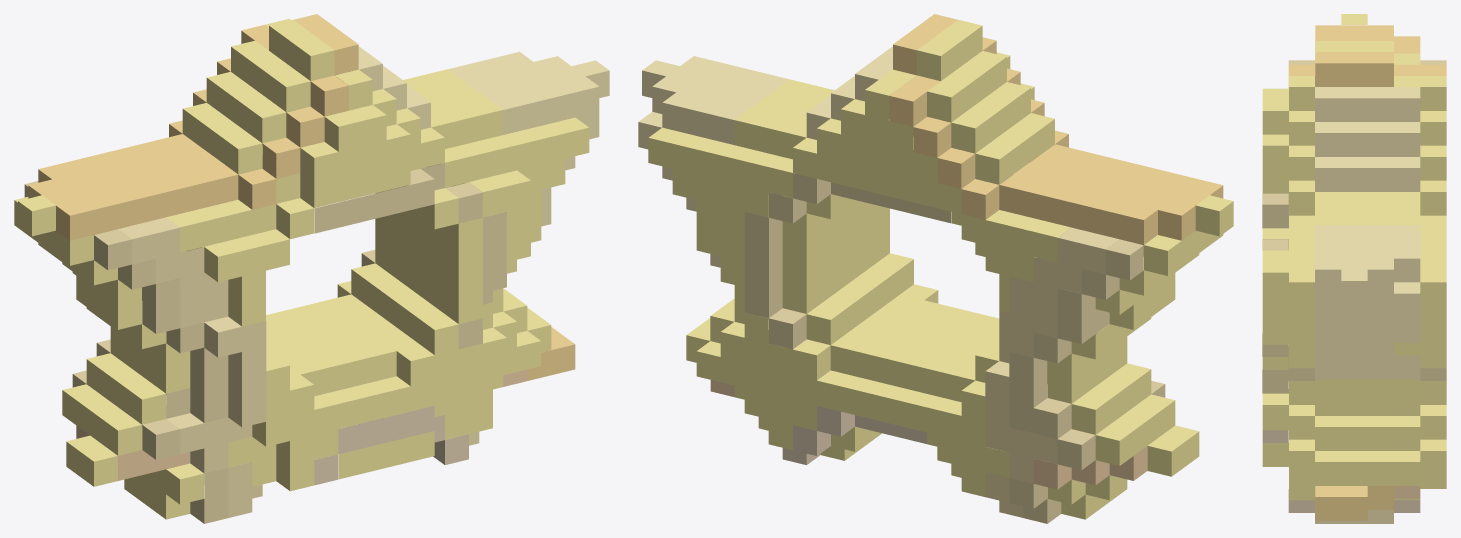
File: 3_constellation_solveil.glb
3 renders of one model, left to right at view 1: azimuth 30°, elevation 25°; view 2: azimuth 150°, elevation 25°; view 3: azimuth 270°, elevation 25°, orthographic. The views are drawn at different scales.
Size of the model in its own units: 24 by 17 by 7.
